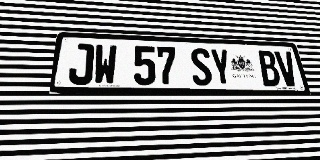5: (134, 46, 156, 85)
7: (155, 46, 178, 85)
B: (256, 50, 282, 86)
J: (68, 43, 94, 85)
S: (189, 48, 213, 86)
V: (274, 51, 300, 86)
W: (93, 44, 117, 85)
Y: (209, 49, 233, 86)
